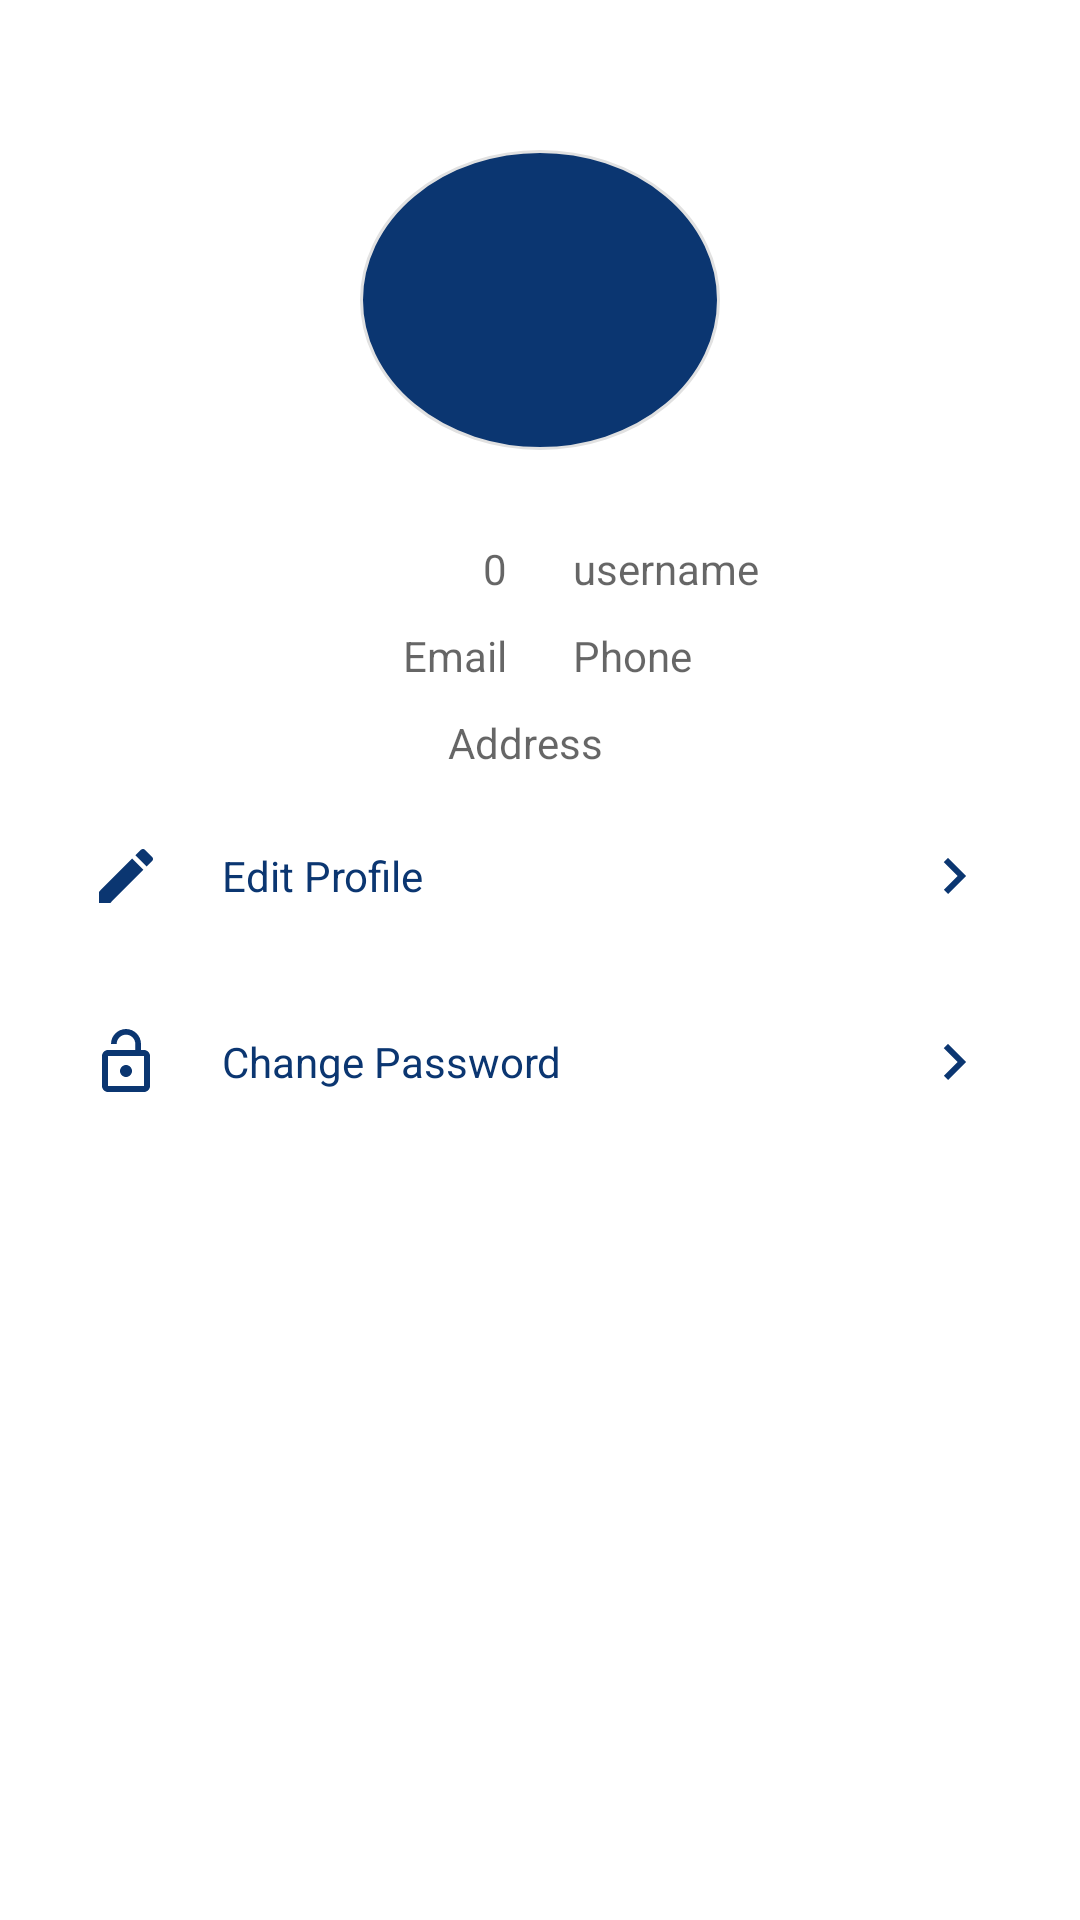

Where icons sit on this 1080 × 1920 app screen, as detection(x1, y1, x2, y2):
keyboard arrow right: detection(944, 858, 966, 894), detection(944, 1044, 966, 1080)
lock open: detection(102, 1029, 150, 1092)
